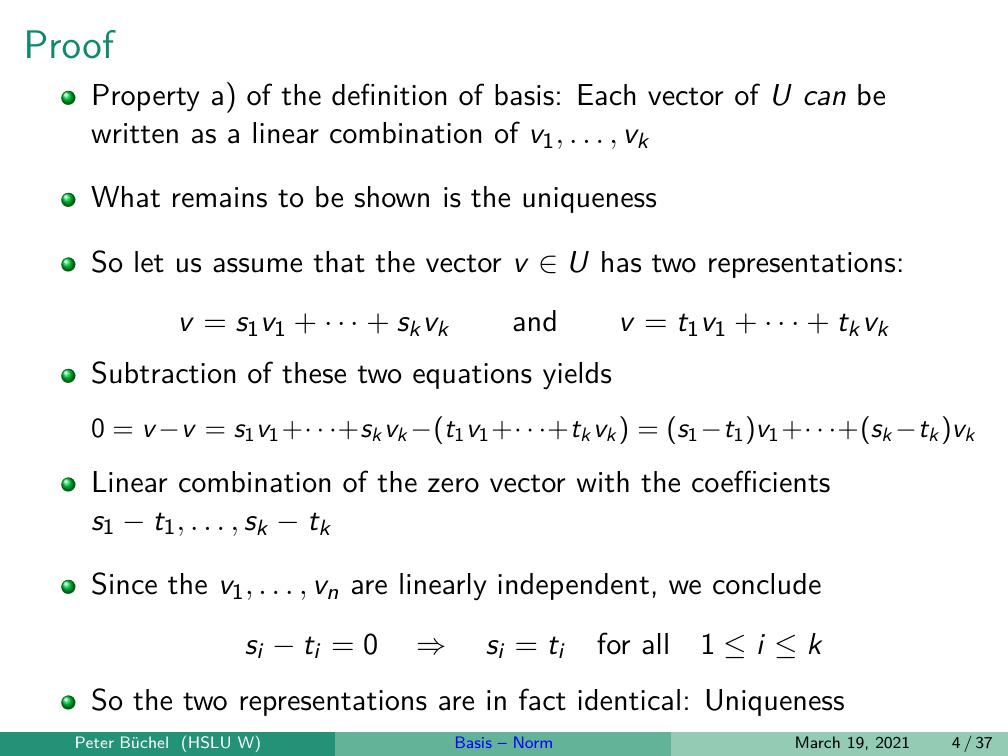Title: (17, 19, 133, 72)
